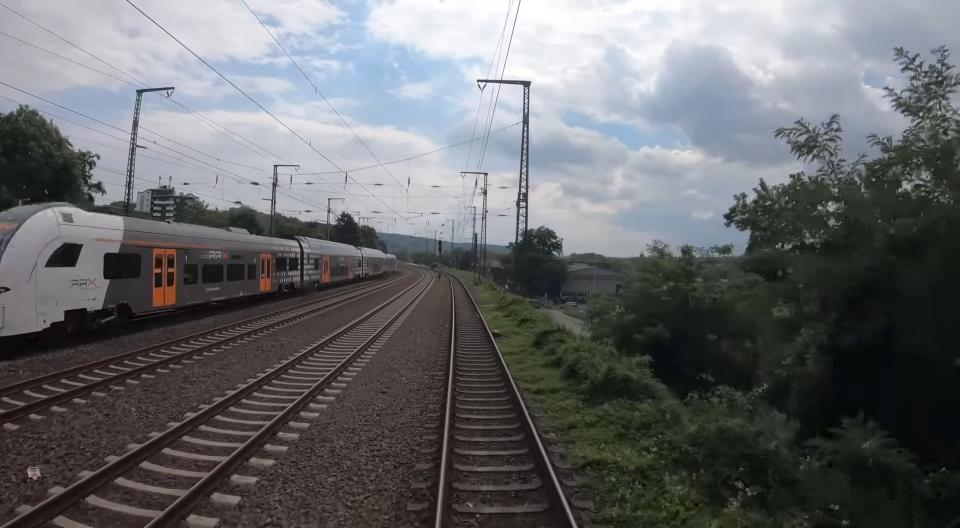Plant: (478, 289, 757, 528)
